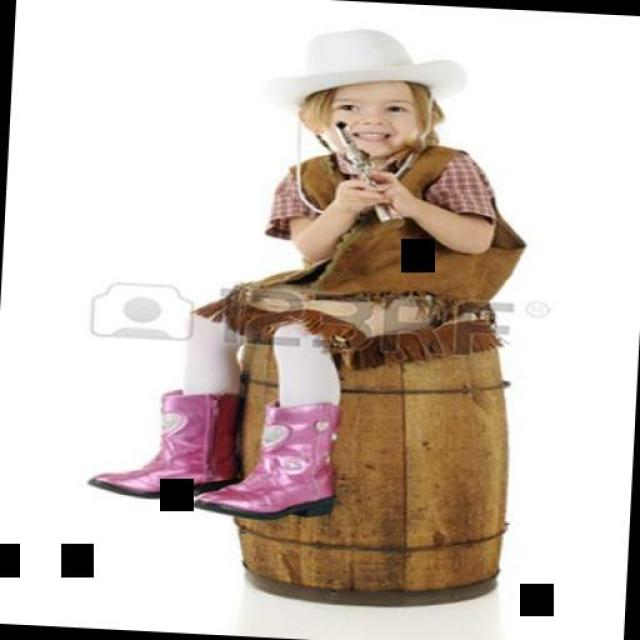gun: (325, 115, 406, 223)
